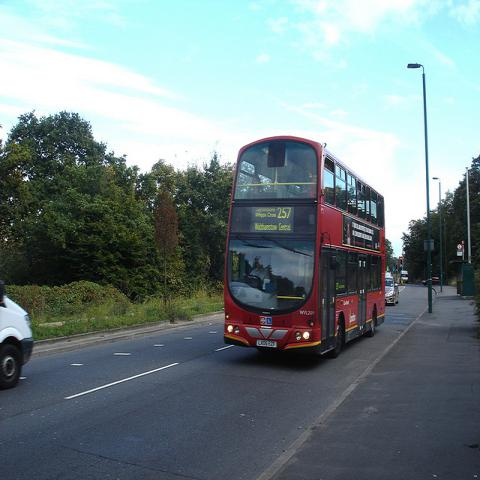bus: (217, 138, 393, 357)
car: (1, 288, 42, 386), (384, 277, 401, 305), (422, 277, 440, 286), (385, 271, 393, 278)
